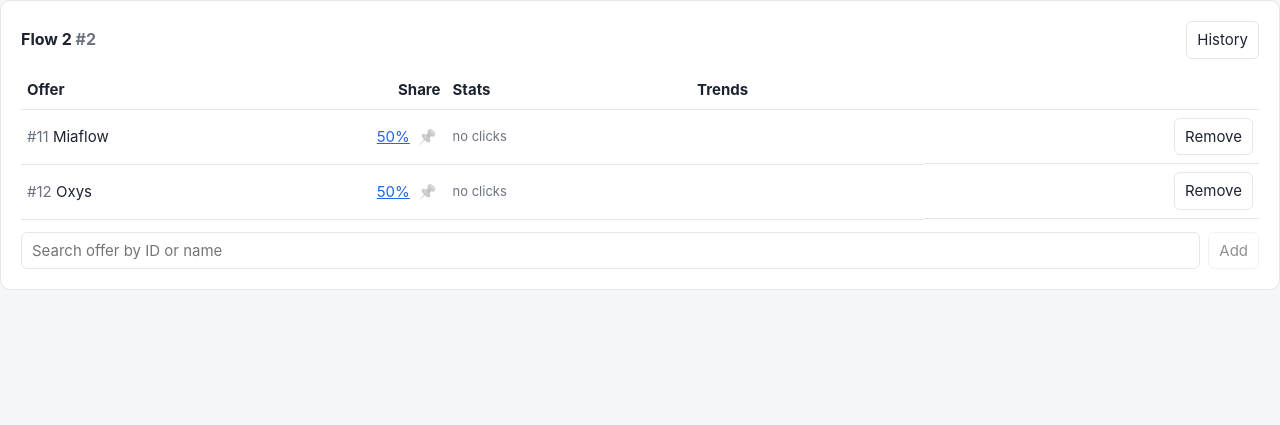
StreamCard › shows publish history and restores a version as a draft
Later steps or results of the test are not shown.
Click the button "History" at (1223, 40), box [1186,21,1259,59]
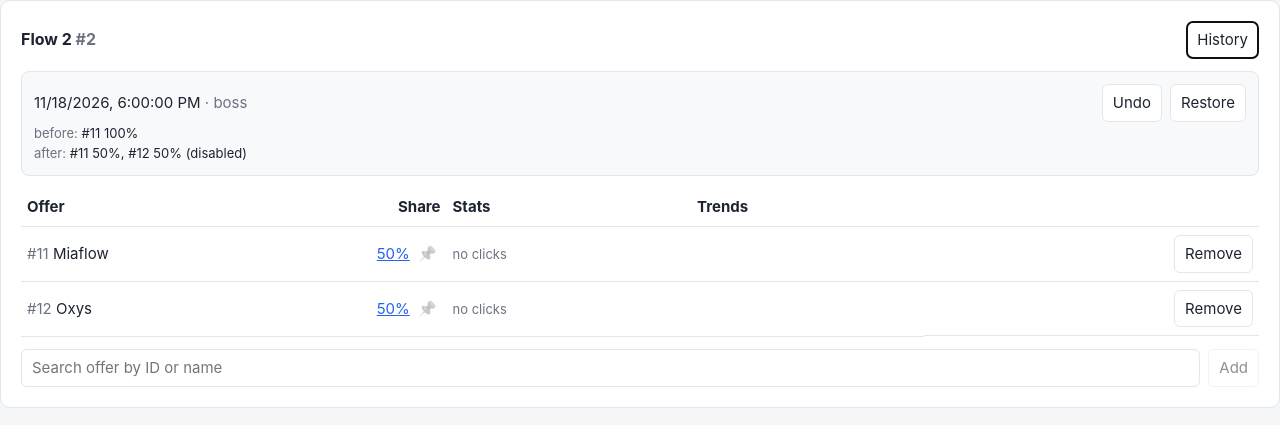
Now the text "· boss" is shown, box [201,93,247,112]
Now the text "#11 50%, #12 50% (disabled)" is shown, box [70,145,247,161]
